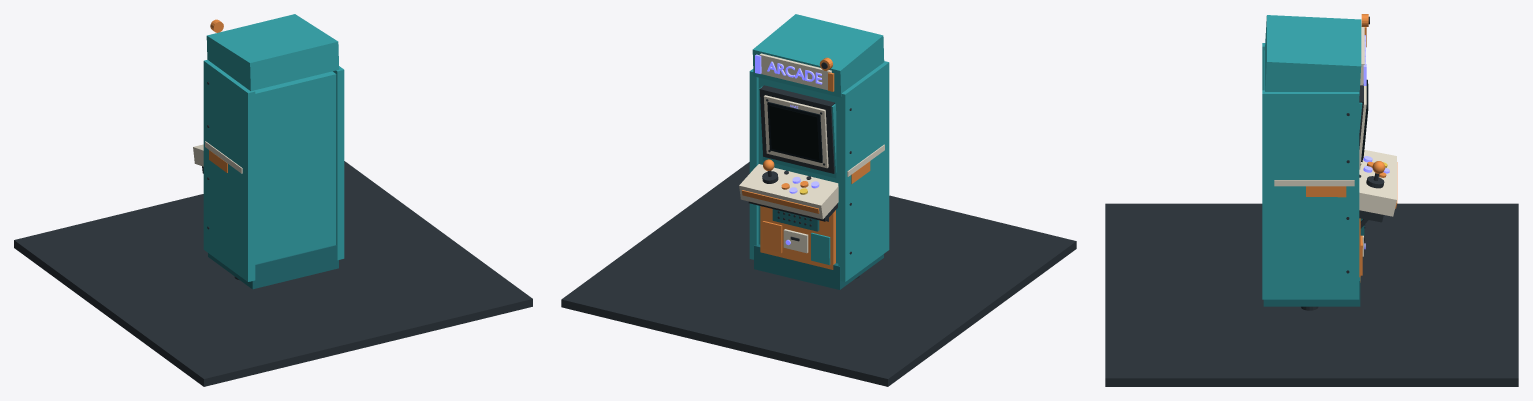
The model's file is GameArcade.glb.
3 renders of one model, left to right at view 1: azimuth 30°, elevation 25°; view 2: azimuth 150°, elevation 25°; view 3: azimuth 270°, elevation 25°, orthographic. The views are drawn at different scales.
Parts seen in each view (by area): view 1: Presentation_Ground, Cabinet_Main, Side_Armor_Left, Marquee_Housing, Cabinet_Base, Side_Armor_Right; view 2: Presentation_Ground, Side_Armor_Left, Marquee_Housing, Control_Surface, Screen_Inner_Glow, Cabinet_Base, Screen_Frame, Cabinet_Main, Lower_Front_Panel, Side_Armor_Right, Screen_Bezel, Marquee_Face (+8 smaller); view 3: Presentation_Ground, Side_Armor_Right, Marquee_Housing, Control_Surface, Cabinet_Base, Side_Cream_Stripe_Right, Side_Orange_R.
Boxes of the visible parts, <box> form: Presentation_Ground: <box>14,161,532,386</box>; Cabinet_Main: <box>254,71,336,264</box>; Side_Armor_Left: <box>203,60,255,281</box>; Marquee_Housing: <box>206,14,339,90</box>; Cabinet_Base: <box>208,245,338,289</box>; Side_Armor_Right: <box>333,66,344,260</box>; Presentation_Ground: <box>561,162,1076,386</box>; Side_Armor_Left: <box>838,61,889,281</box>; Marquee_Housing: <box>752,14,884,97</box>; Control_Surface: <box>739,164,838,219</box>; Screen_Inner_Glow: <box>769,105,819,160</box>; Cabinet_Base: <box>754,244,883,289</box>; Screen_Frame: <box>759,85,834,173</box>; Cabinet_Main: <box>758,77,838,263</box>; Lower_Front_Panel: <box>760,206,835,269</box>; Side_Armor_Right: <box>749,69,758,259</box>; Screen_Bezel: <box>763,95,828,168</box>; Marquee_Face: <box>759,53,831,90</box>; Presentation_Ground: <box>1105,203,1518,386</box>; Side_Armor_Right: <box>1262,90,1359,299</box>; Marquee_Housing: <box>1265,15,1361,95</box>; Control_Surface: <box>1359,150,1396,216</box>; Cabinet_Base: <box>1263,277,1360,306</box>; Side_Cream_Stripe_Right: <box>1274,180,1354,186</box>; Side_Orange_R: <box>1306,186,1346,197</box>.
Bounding box in the file's own units: 3.5 × 2.5 × 3.5.
